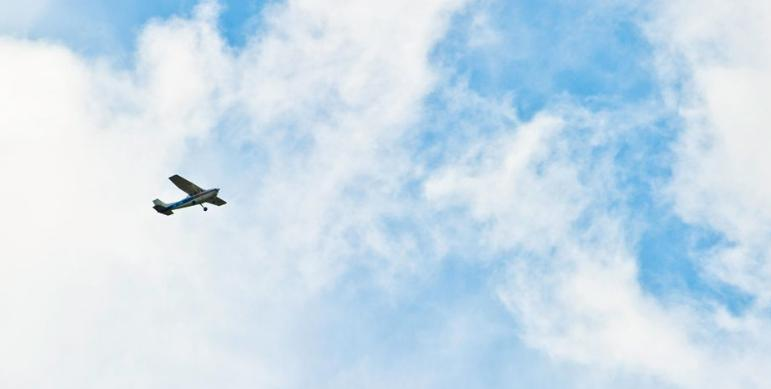aircraft: (153, 174, 228, 218)
